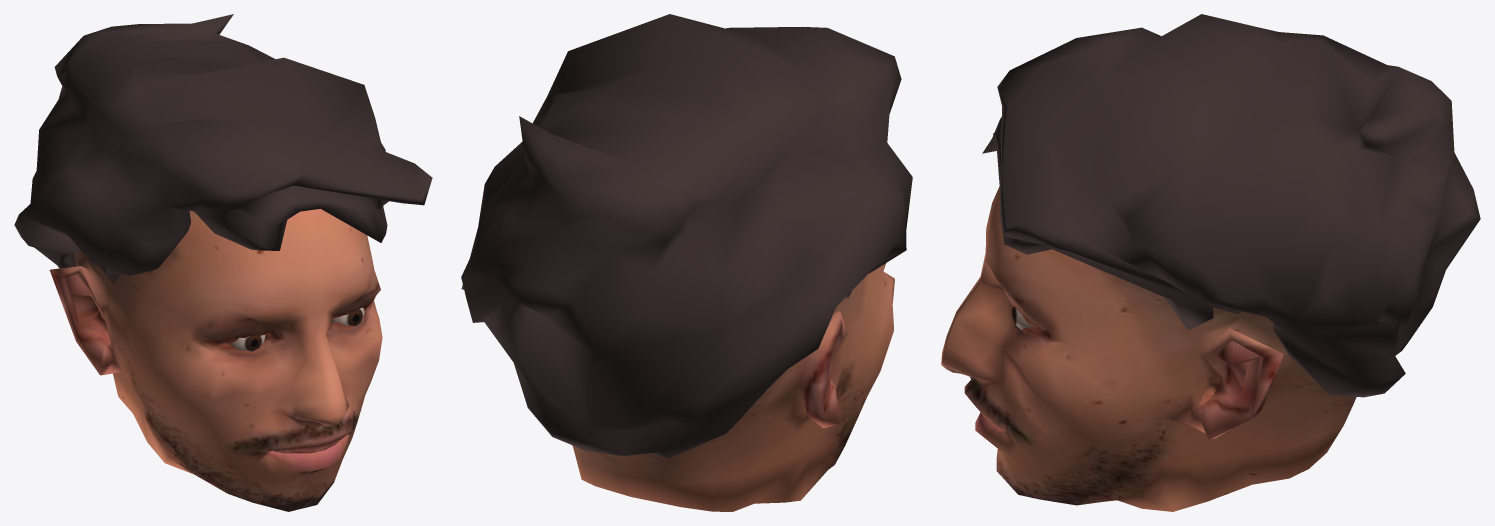
Rendered from mazouz.glb.
The picture shows the model from 3 angles, left to right: view 1: azimuth 30°, elevation 25°; view 2: azimuth 150°, elevation 25°; view 3: azimuth 270°, elevation 25°; orthographic projection. The views are drawn at different scales.
Visible parts, largest first — view 1: Hair14.001, HG_Body.001, HG_Eyes; view 2: Hair14.001, HG_Body.001; view 3: Hair14.001, HG_Body.001.
Boxes of the visible parts, x1,y1,x2,y2 form: Hair14.001: (14,14,432,283); HG_Body.001: (49,209,382,511); HG_Eyes: (226,307,364,351); Hair14.001: (461,14,912,458); HG_Body.001: (572,263,894,511); Hair14.001: (982,14,1480,397); HG_Body.001: (941,186,1356,511).
Bounding box in the file's own units: 0.2299 × 0.2718 × 0.3025.
3 materials, 2 textured.
